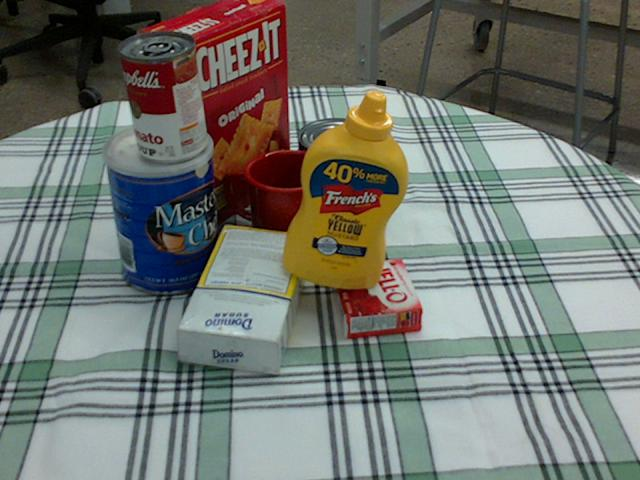cracker_box: (137, 0, 288, 230)
gelatin_box: (330, 258, 420, 338)
master_chef_can: (100, 122, 221, 295)
mug: (224, 147, 329, 250)
mustard_bottle: (282, 89, 408, 288)
potted_meat_can: (282, 134, 378, 215)
sugar_box: (178, 223, 311, 373)
tomato_soup_can: (120, 30, 206, 161)
tuna_fish_can: (296, 118, 372, 178)
